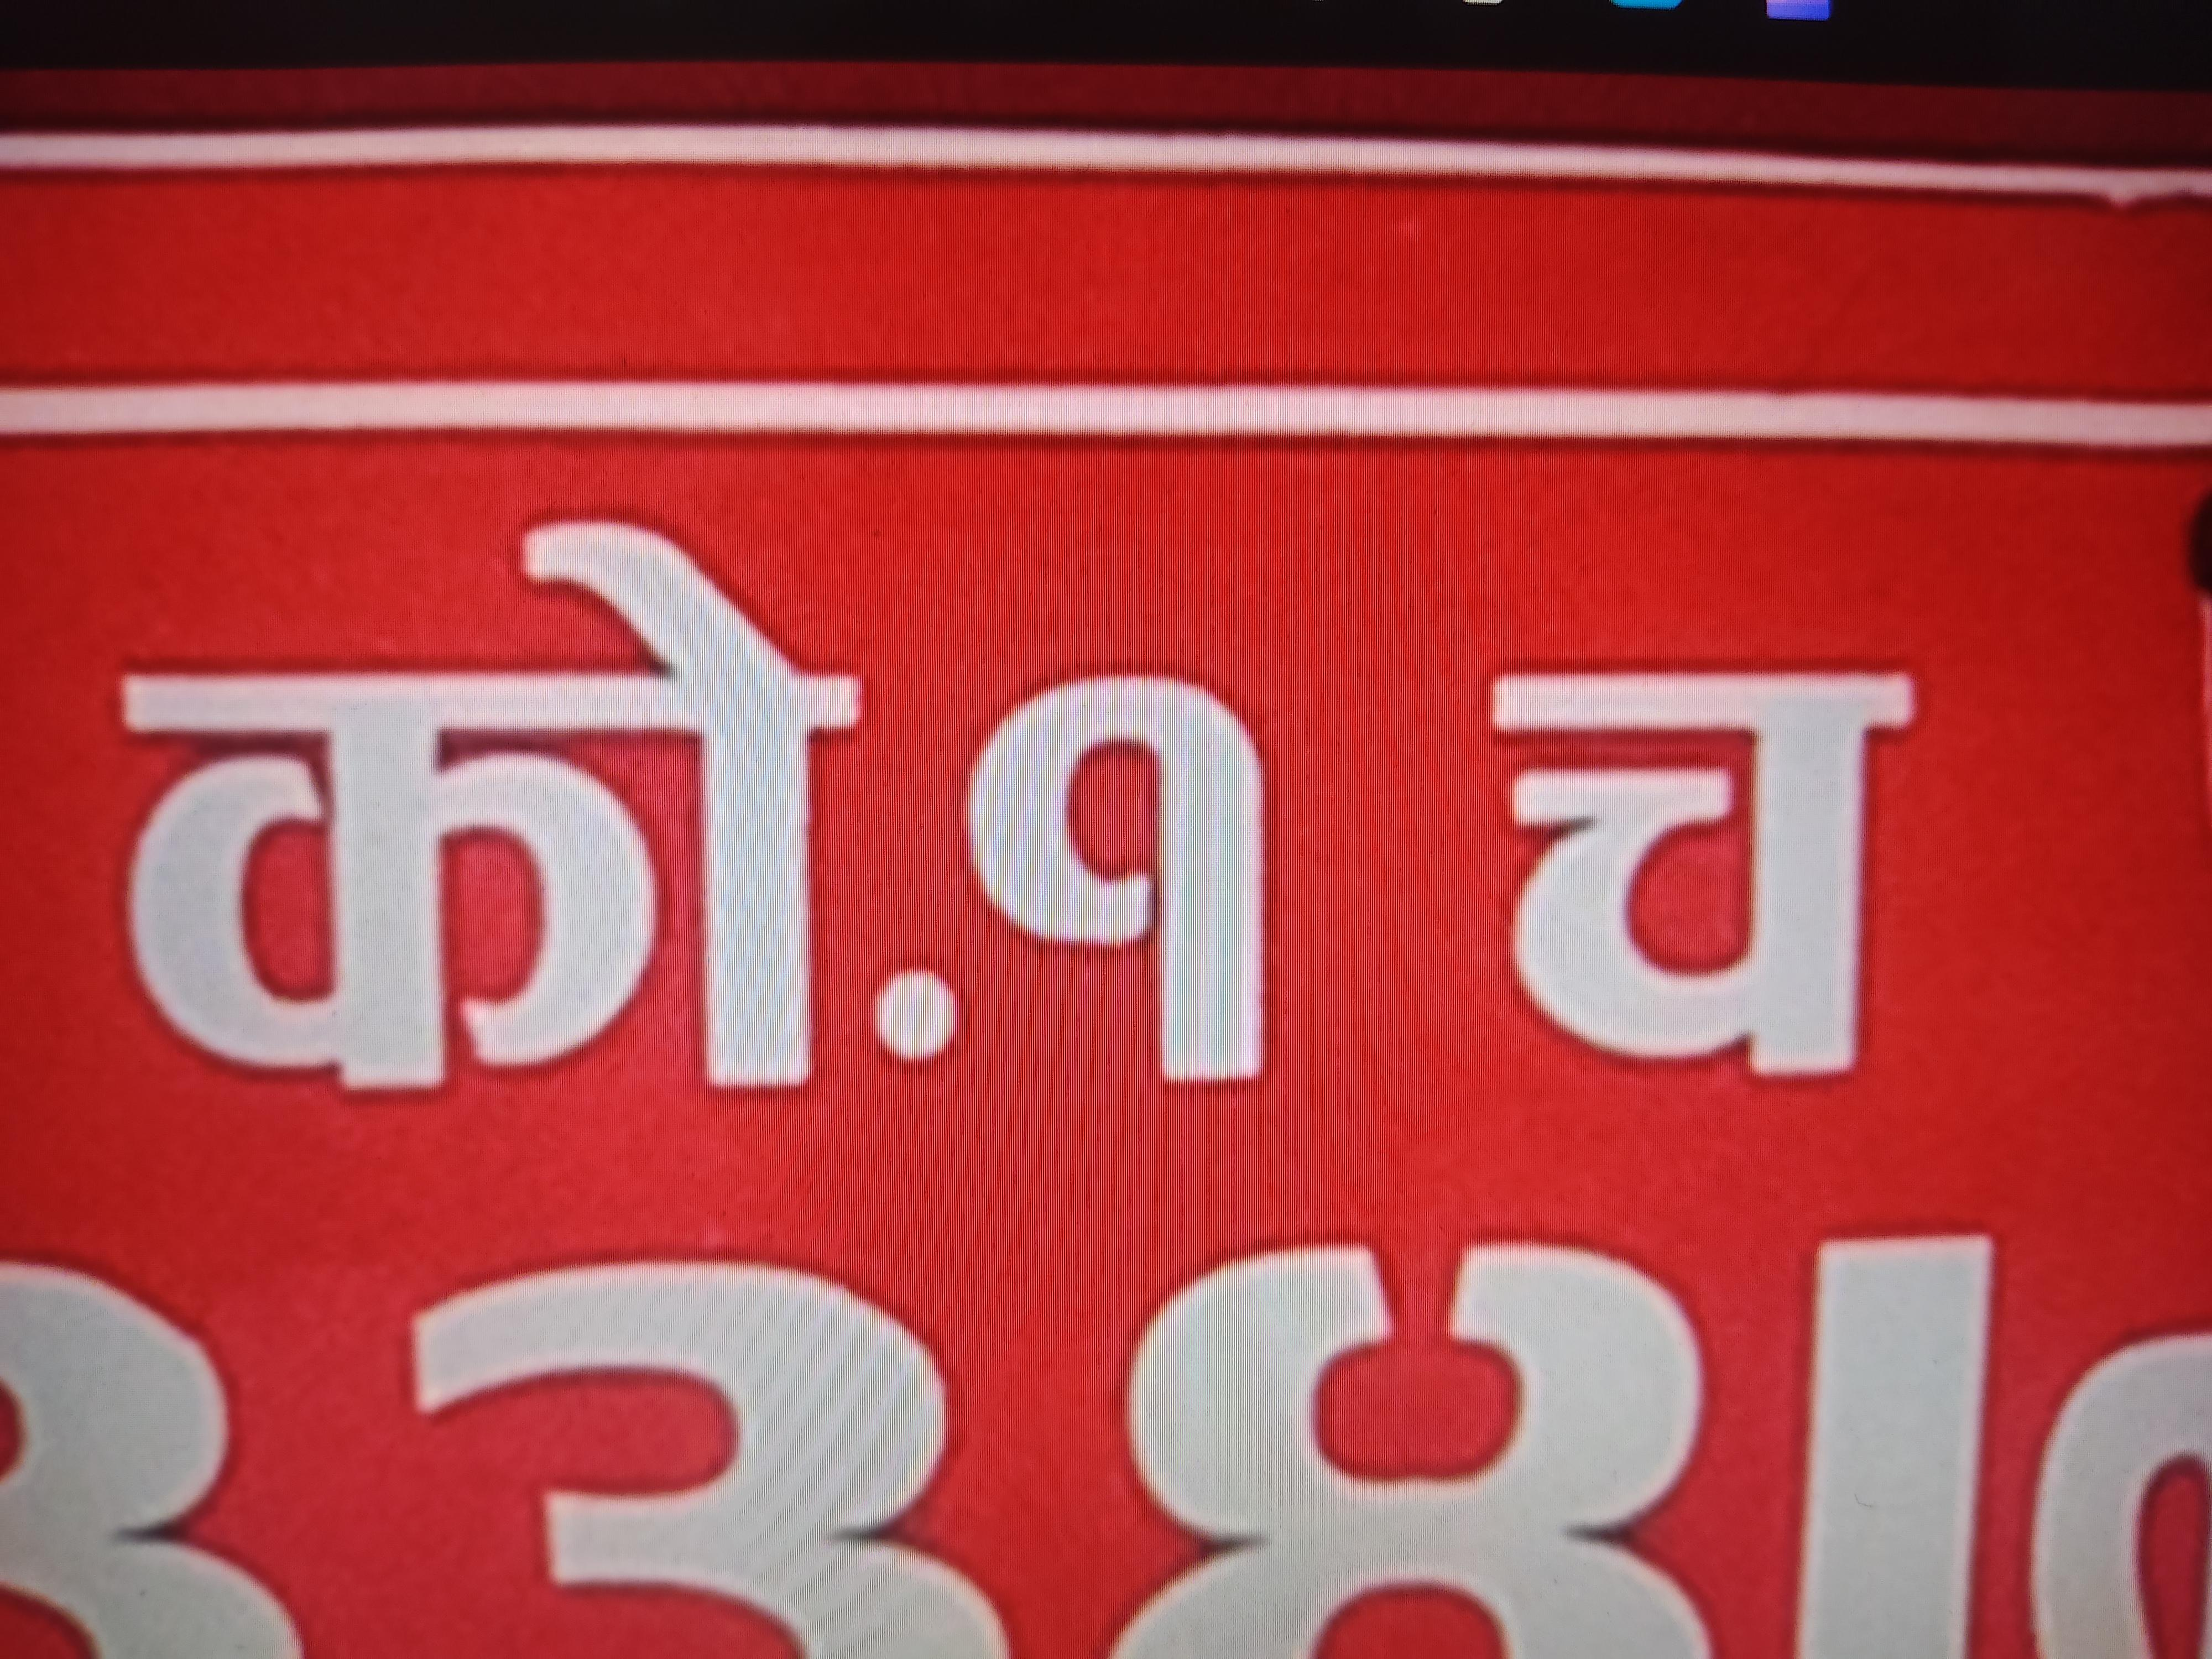1: (954, 623, 1368, 1123)
4: (1081, 1193, 1747, 1655)
6: (342, 1191, 1048, 1652)
7: (1759, 1177, 2204, 1658)
cha: (1477, 596, 1949, 1113)
ko: (78, 501, 889, 1135)
